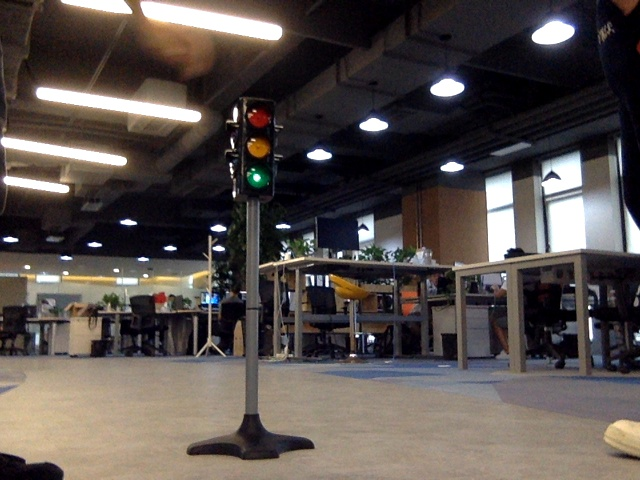green: (243, 101, 269, 187)
